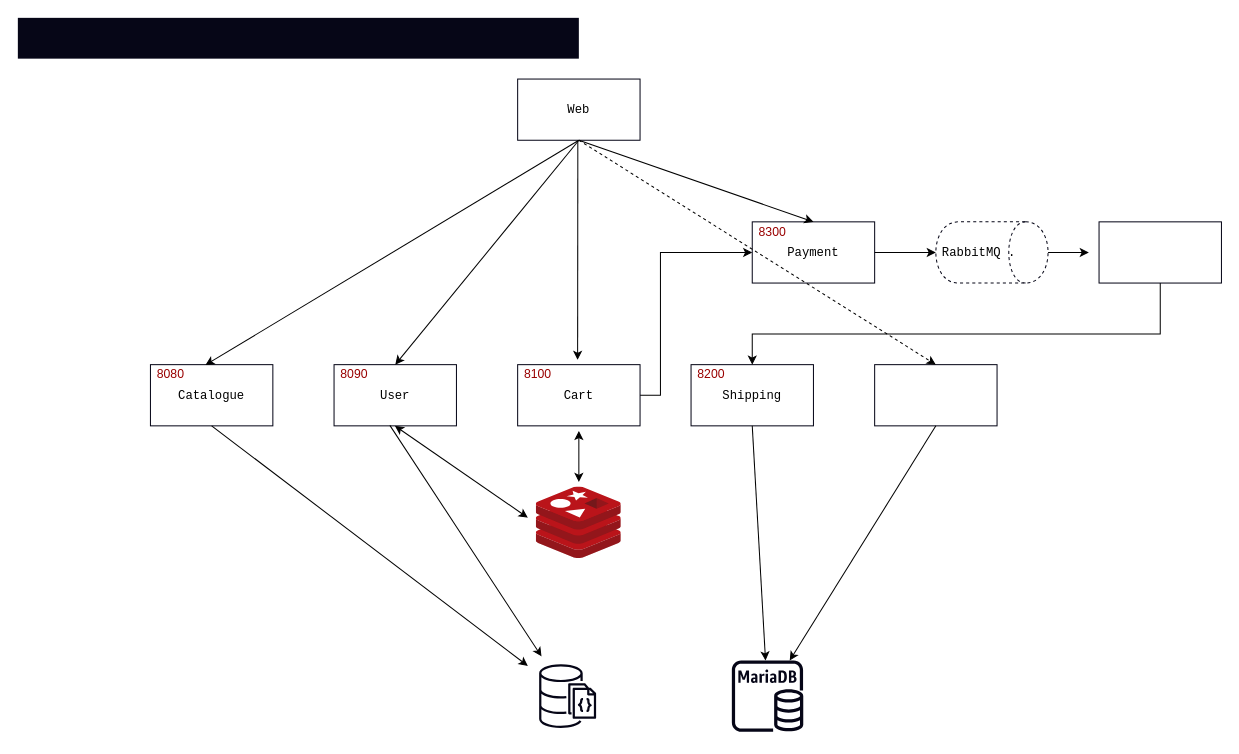
The diagram is 1239 pixels wide and 754 high, and some of its shapes have lost their labels. Each missing label, with the centre of its shape:
"Dispatch" belongs at (x=1159, y=252).
"Ratings" belongs at (x=935, y=395).
"Robo Shot Architecture" belongs at (x=297, y=37).
